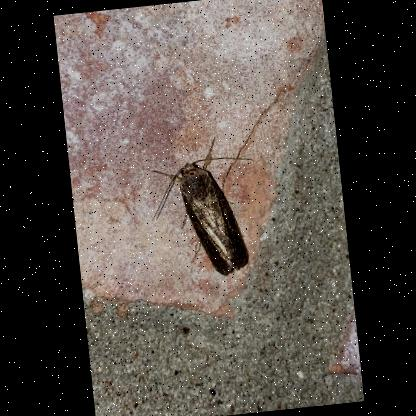Fall Armyworm Moth: (142, 130, 266, 285)
